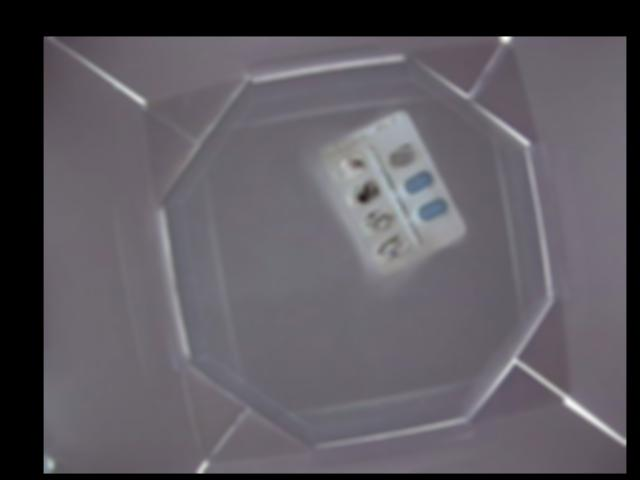Medicine: (317, 107, 465, 268)
